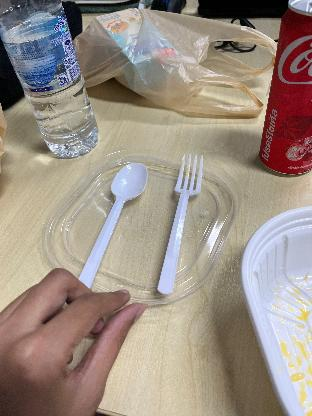Others: (72, 160, 152, 291), (156, 147, 212, 303)
Plastic Bottle: (0, 1, 102, 160)
